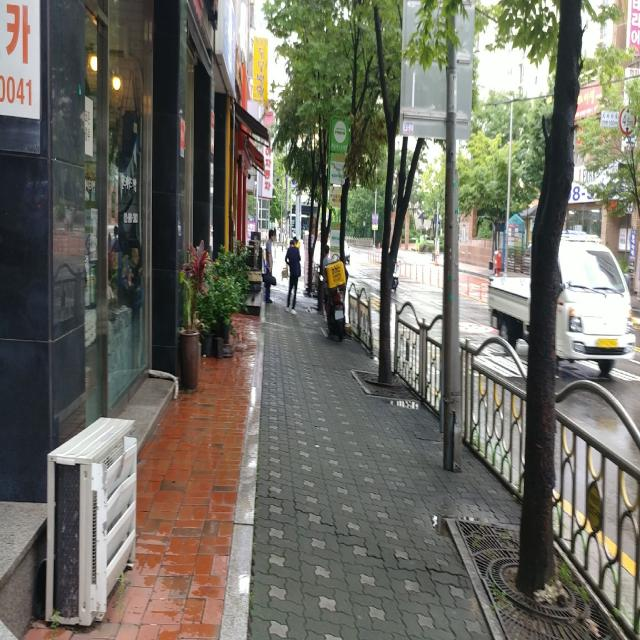car: (488, 234, 636, 374)
motorbike: (319, 261, 346, 341)
